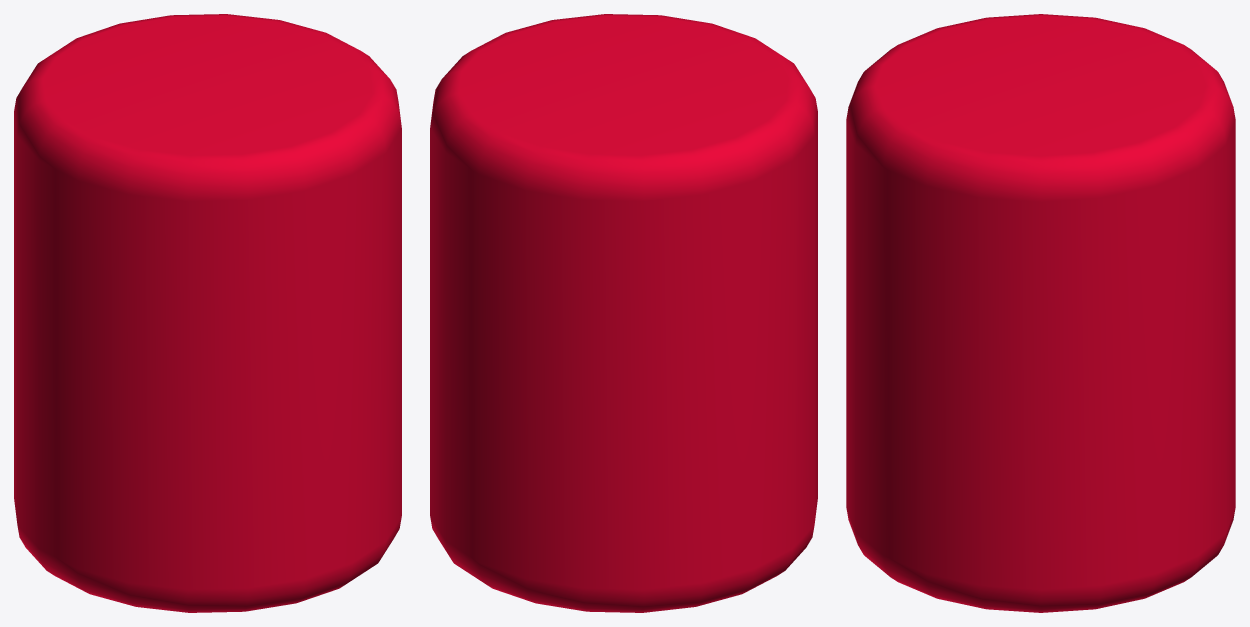
File: Redpg.fbx
The picture shows the model from 3 angles, left to right: view 1: azimuth 30°, elevation 25°; view 2: azimuth 150°, elevation 25°; view 3: azimuth 270°, elevation 25°; orthographic projection.
Parts seen in each view (by area): view 1: polySurface512; view 2: polySurface512; view 3: polySurface512.
Boxes of the visible parts, x1,y1,x2,y2 form: polySurface512: [14, 14, 401, 612]; polySurface512: [430, 14, 817, 612]; polySurface512: [846, 14, 1235, 612].
Size of the model in its own units: 0.9339 by 1.2 by 0.9339.
